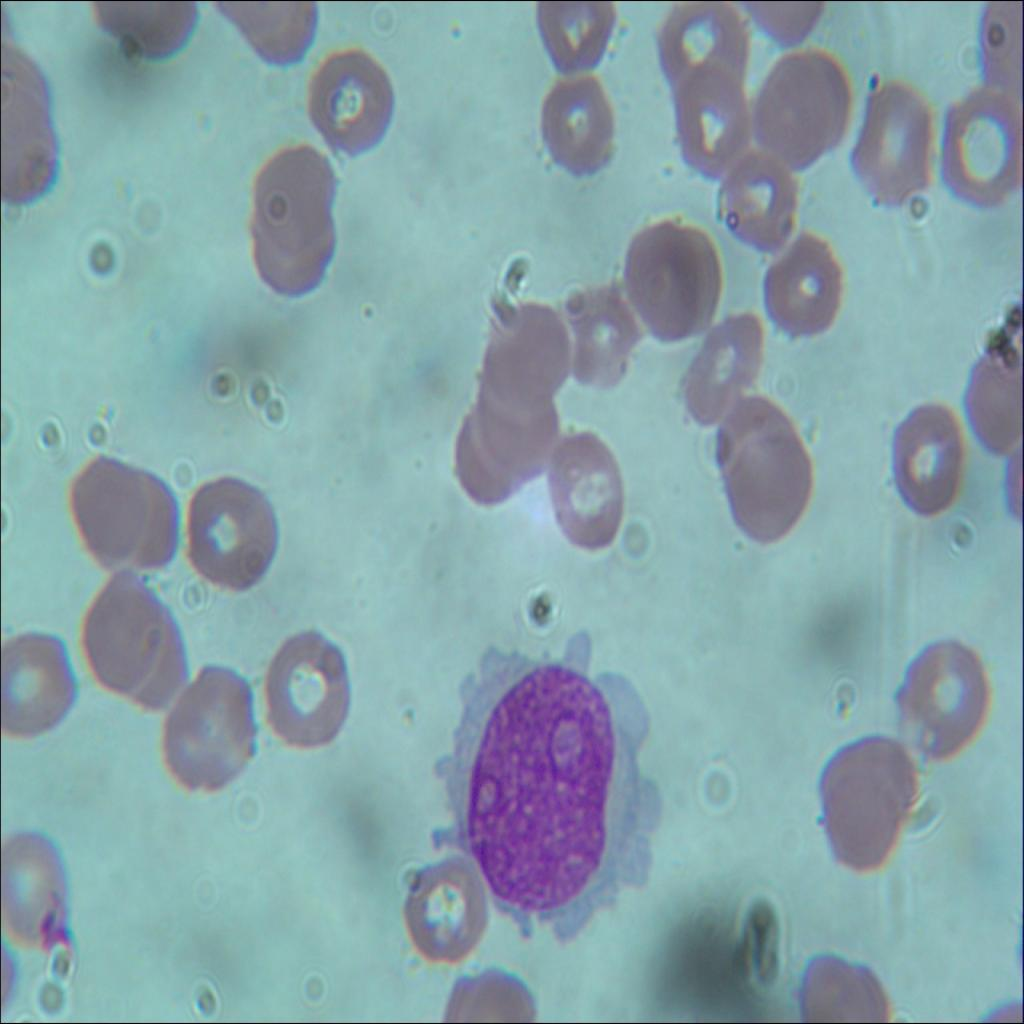Eritrosit: (823, 734, 919, 879), (716, 402, 818, 538), (618, 212, 722, 340), (179, 468, 278, 602), (883, 392, 976, 531), (161, 664, 255, 801), (259, 619, 353, 754), (298, 38, 396, 158), (549, 428, 633, 568), (852, 85, 938, 221), (900, 634, 986, 755), (659, 5, 755, 111), (679, 314, 768, 428), (399, 856, 488, 968), (935, 97, 1023, 210), (754, 55, 846, 162), (670, 56, 748, 182), (444, 398, 526, 517), (478, 300, 564, 410), (956, 322, 1023, 461), (558, 284, 640, 394), (764, 225, 838, 344), (66, 452, 144, 564), (718, 136, 794, 250), (0, 631, 74, 748), (541, 72, 618, 184), (88, 571, 156, 691), (116, 607, 190, 717), (0, 838, 74, 948), (110, 467, 180, 578), (474, 385, 558, 477), (530, 0, 617, 71)
Limfoblast: (451, 660, 649, 924)
Platelet: (856, 64, 881, 84)
